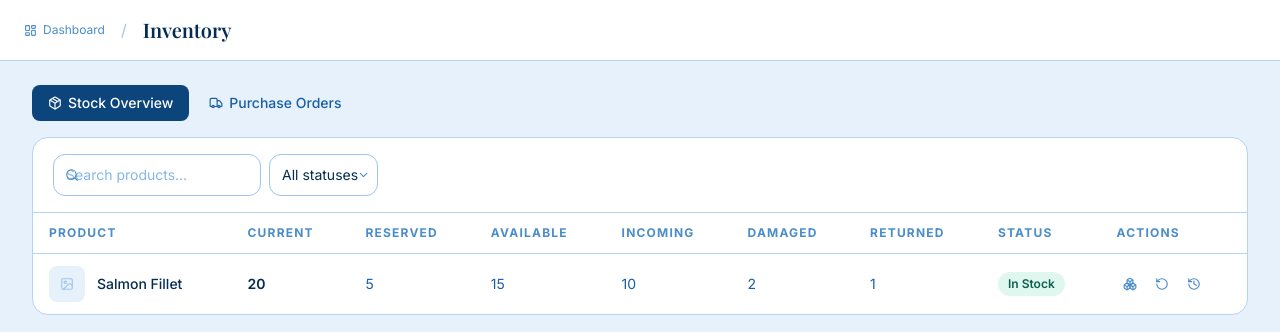
Test case: AdminInventoryPage — Purchase Orders › switches to the purchase orders tab and lists purchases
The width and height of the screenshot is (1280, 332).
Expected: the text "Salmon Fillet" is shown, [97,274,182,294]
Click the button "Purchase Orders": (275, 103) [193,85,358,121]
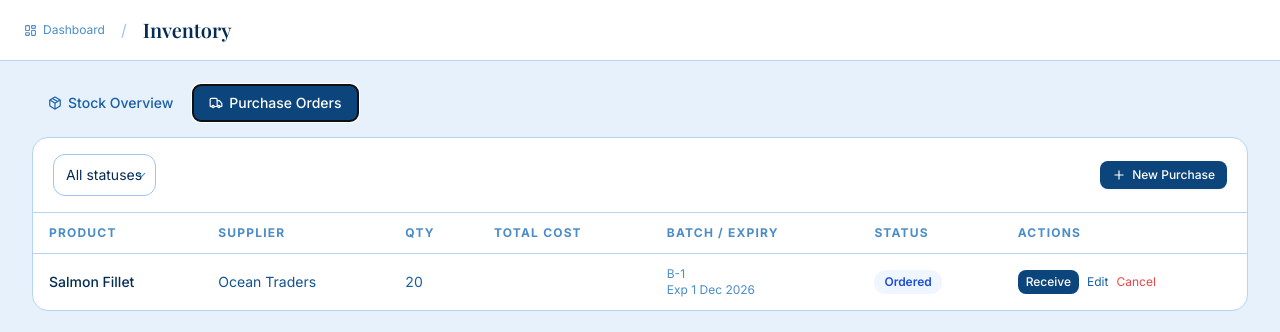
Result: the text "Ocean Traders" is shown at [202,254,389,310]
Result: the text "₹6,000" is shown at [478,254,651,310]
Result: the text "ordered" is shown at [874,270,942,294]
